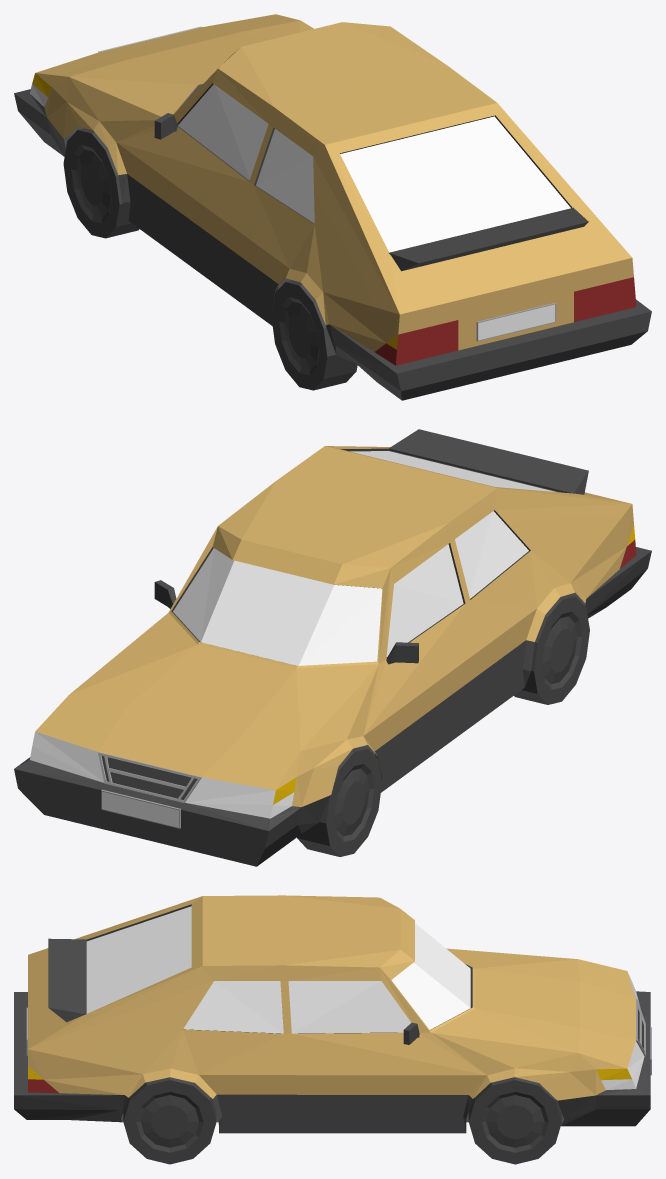
Rendered from Coche_1.fbx.
The picture shows the model from 3 angles, top to bottom: view 1: azimuth 30°, elevation 25°; view 2: azimuth 150°, elevation 25°; view 3: azimuth 270°, elevation 25°; orthographic projection. The views are drawn at different scales.
Visible parts, largest first — view 1: Box012, Cylinder007, Cylinder008, Box016, Box017; view 2: Box012, Box016, Cylinder008, Cylinder007, Box015, Box014; view 3: Box012, Cylinder007, Cylinder008, Box016.
Part boxes in pixels (bbox=[...]): Box012: bbox=[14, 14, 651, 400]; Cylinder007: bbox=[271, 280, 357, 390]; Cylinder008: bbox=[63, 128, 139, 238]; Box016: bbox=[389, 207, 588, 271]; Box017: bbox=[476, 302, 556, 341]; Box012: bbox=[14, 446, 651, 866]; Box016: bbox=[389, 429, 588, 494]; Cylinder008: bbox=[297, 747, 382, 856]; Cylinder007: bbox=[514, 594, 589, 704]; Box015: bbox=[101, 789, 180, 828]; Box014: bbox=[154, 580, 418, 664]; Box012: bbox=[14, 895, 650, 1133]; Cylinder007: bbox=[123, 1077, 216, 1164]; Cylinder008: bbox=[468, 1077, 561, 1164]; Box016: bbox=[48, 938, 86, 1022].
Size of the model in its own units: 68.74 by 53.83 by 171.
